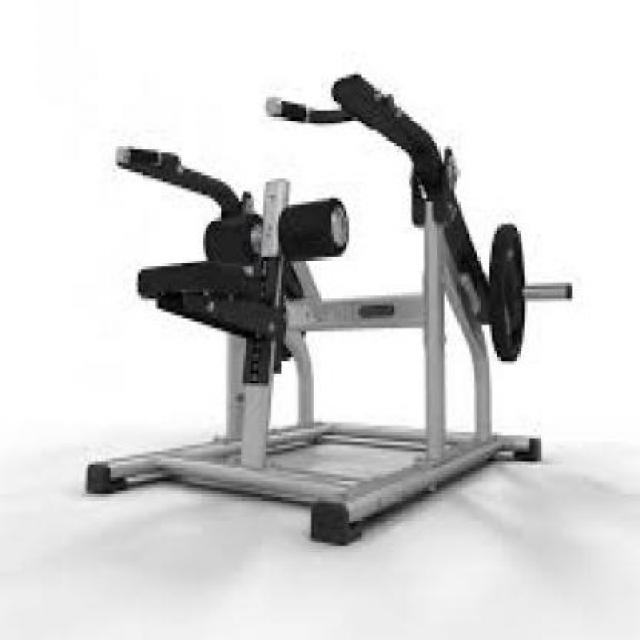seated dip machine: (88, 69, 575, 551)
